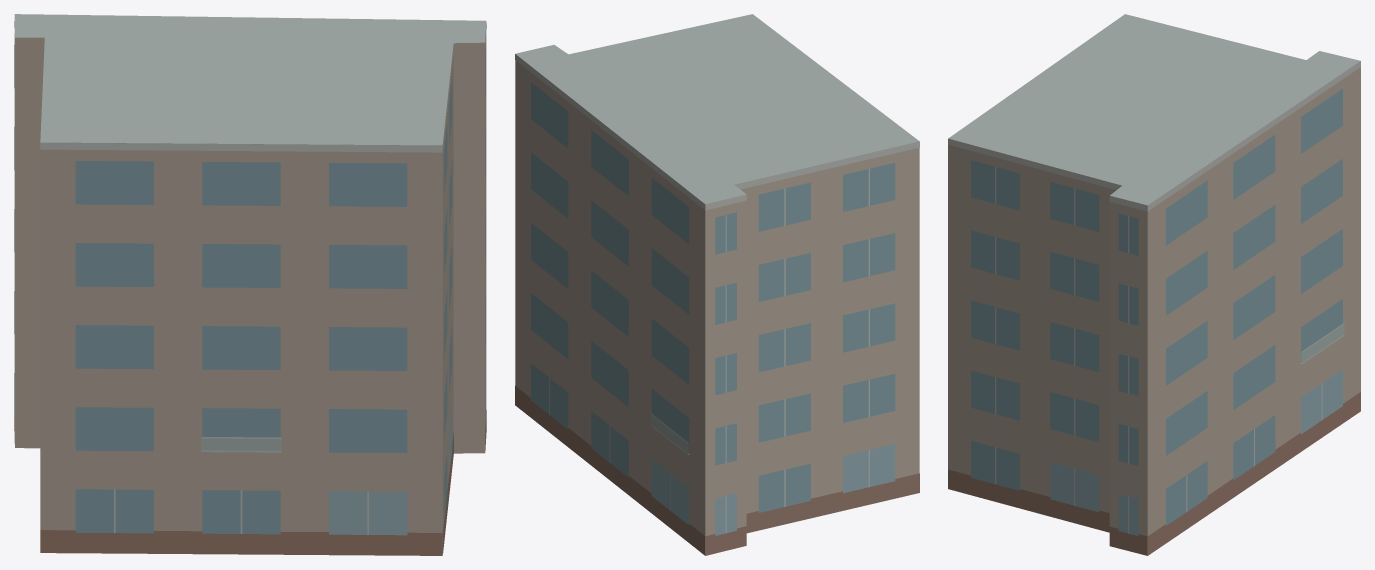
The model's file is survey-upis-32687111.glb.
The picture shows the model from 3 angles, left to right: view 1: azimuth 30°, elevation 25°; view 2: azimuth 150°, elevation 25°; view 3: azimuth 270°, elevation 25°; orthographic projection. The views are drawn at different scales.
Visible parts, largest first — view 1: survey-upis-32687111.tmp; view 2: survey-upis-32687111.tmp; view 3: survey-upis-32687111.tmp.
Part boxes in pixels (box(x1,y1,x2,y2)): survey-upis-32687111.tmp: box(14, 14, 486, 555); survey-upis-32687111.tmp: box(515, 14, 919, 555); survey-upis-32687111.tmp: box(948, 14, 1360, 555).
Bounding box in the file's own units: 16.46 × 14.05 × 15.
